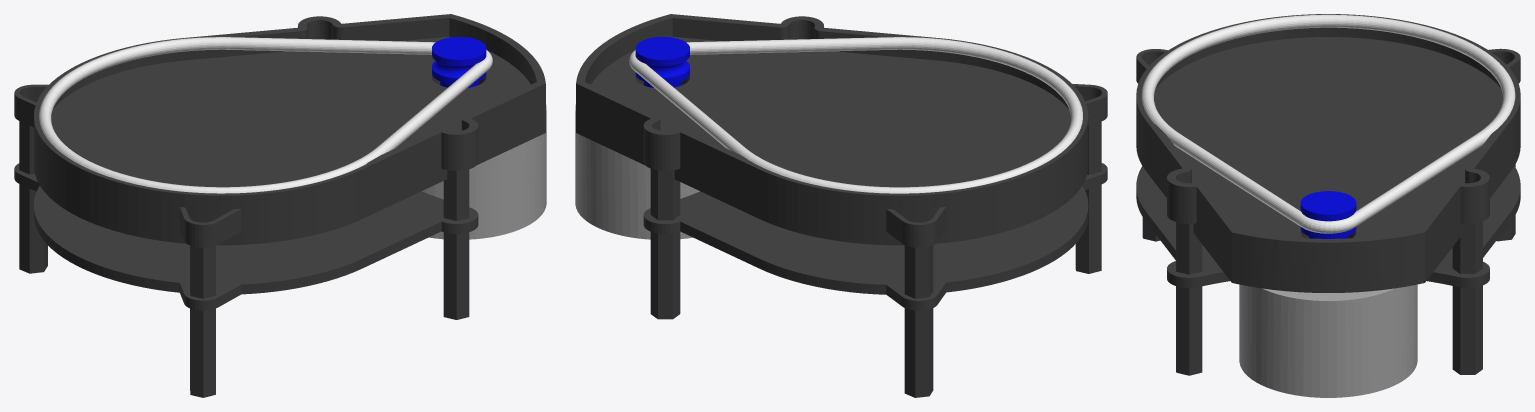
Rendered from YDlidar_base.dae.
3 views of the same model, side by side, from view 1: azimuth 30°, elevation 25°; view 2: azimuth 150°, elevation 25°; view 3: azimuth 270°, elevation 25° (orthographic).
Parts seen in each view (by area): view 1: YDlidar v18; view 2: YDlidar v18; view 3: YDlidar v18.
Boxes of the visible parts, x1,y1,x2,y2 form: YDlidar v18: [14, 14, 546, 397]; YDlidar v18: [575, 14, 1107, 397]; YDlidar v18: [1136, 14, 1520, 397].
Bounding box in the file's own units: 0.1005 × 0.069 × 0.04.
